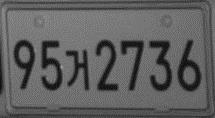2: (94, 37, 118, 91)
3: (148, 39, 173, 91)
5: (40, 39, 63, 91)
6: (176, 38, 201, 91)
7: (119, 39, 144, 91)
9: (13, 38, 35, 90)
거: (64, 48, 89, 92)
